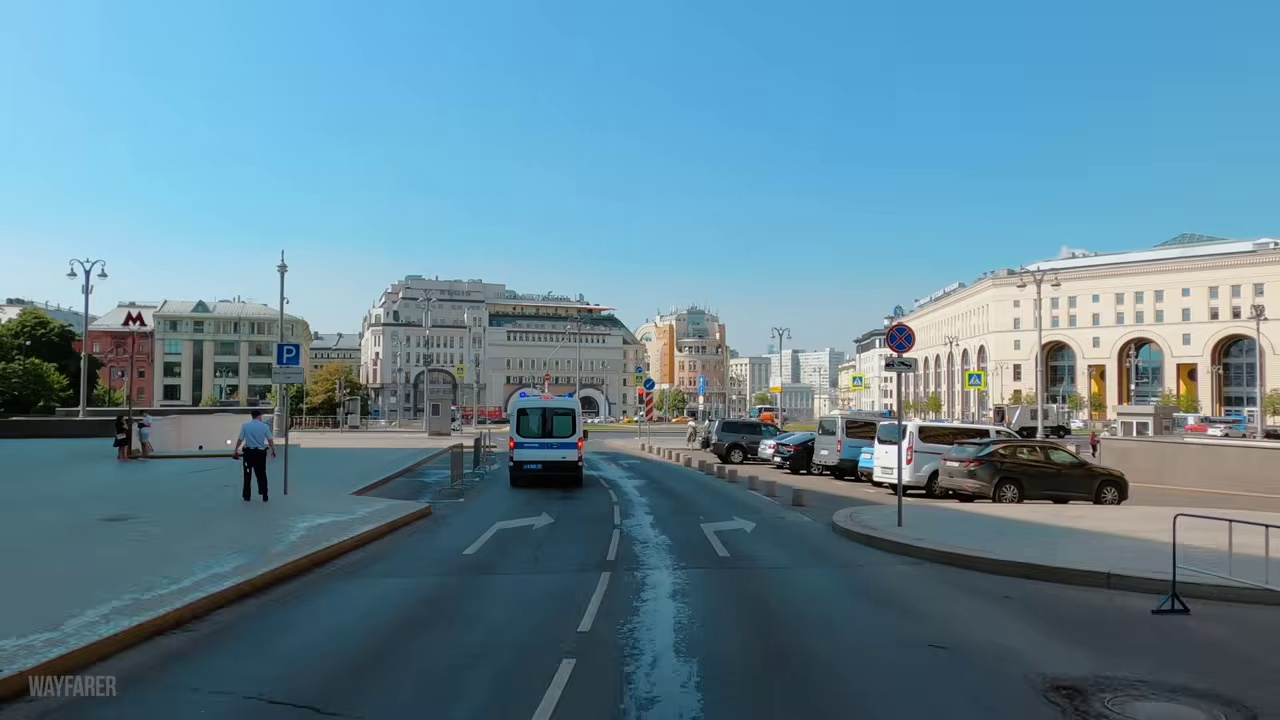apagada: (68, 261, 109, 287)
